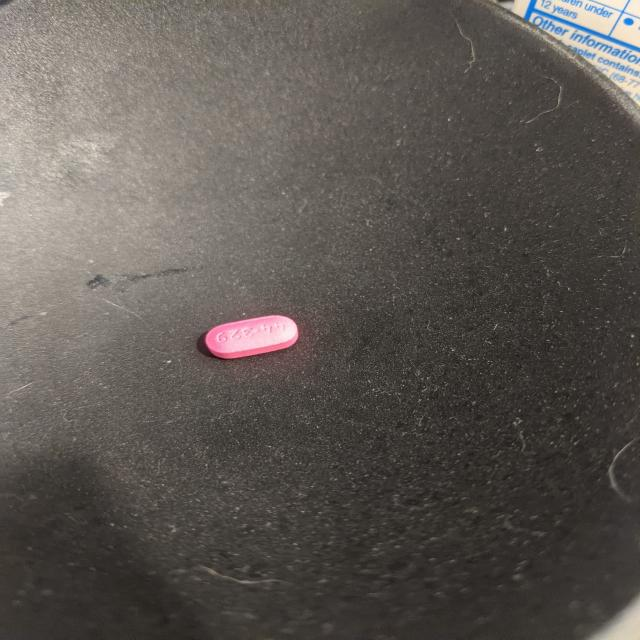non-organic waste: (203, 314, 300, 359)
